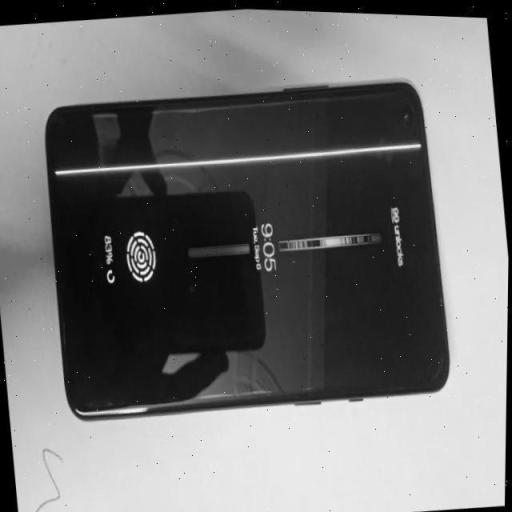phone: (41, 75, 456, 423)
